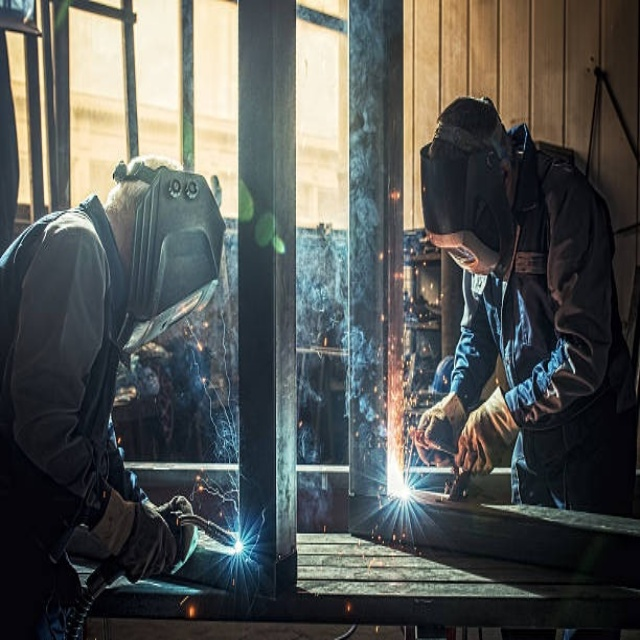Guantes: (66, 474, 197, 582), (449, 380, 521, 474), (415, 383, 456, 474)
